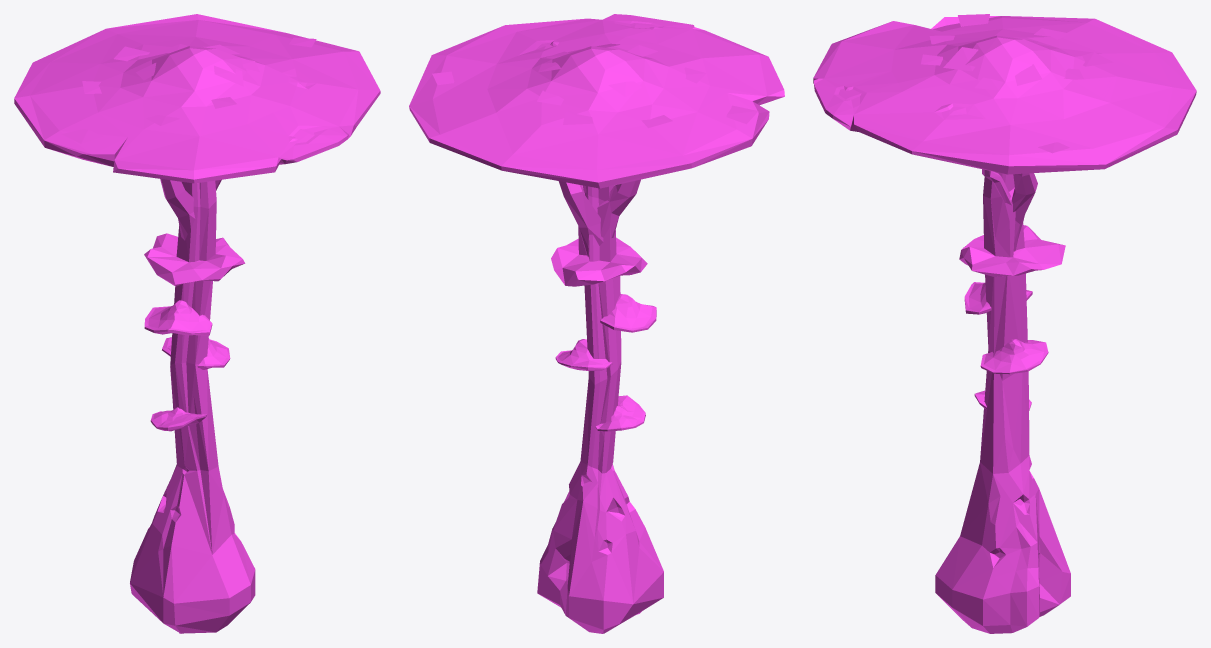
Rendered from SM_Mushroom_Slim_Giant_B_Fantasy.fbx.
3 renders of one model, left to right at view 1: azimuth 30°, elevation 25°; view 2: azimuth 150°, elevation 25°; view 3: azimuth 270°, elevation 25°, orthographic. The views are drawn at different scales.
Parts seen in each view (by area): view 1: SM_Mushroom_Slim_Giant_B_Fantasy; view 2: SM_Mushroom_Slim_Giant_B_Fantasy; view 3: SM_Mushroom_Slim_Giant_B_Fantasy.
Part boxes in pixels (left/top/right/bottom): SM_Mushroom_Slim_Giant_B_Fantasy: left=14, top=14, right=380, bottom=633; SM_Mushroom_Slim_Giant_B_Fantasy: left=409, top=14, right=784, bottom=633; SM_Mushroom_Slim_Giant_B_Fantasy: left=813, top=14, right=1196, bottom=633.
Bounding box in the file's own units: 8.68 × 14.75 × 8.84.
